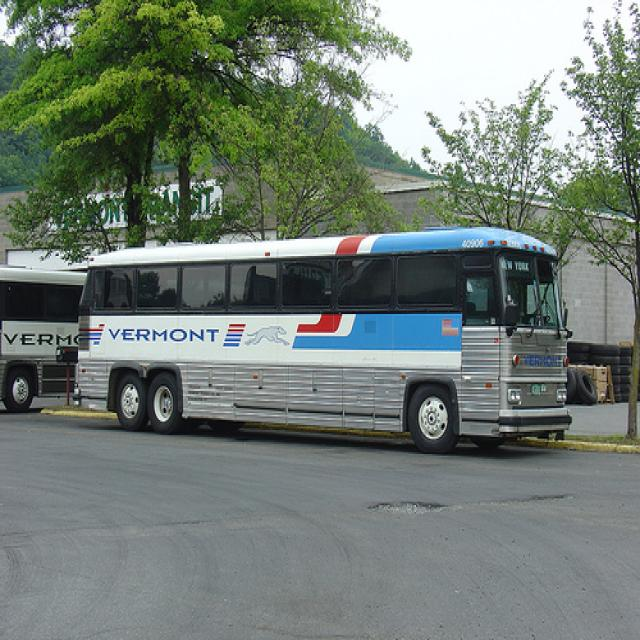bus: (70, 225, 575, 452), (1, 261, 79, 411)
